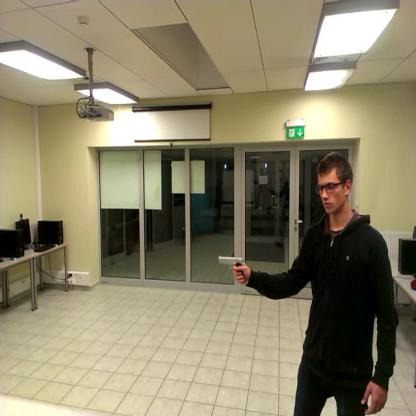Pistol: (218, 246, 246, 284)
